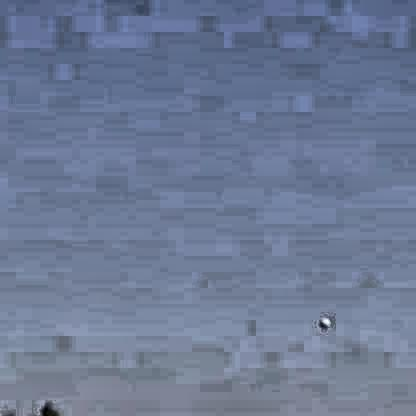golfball: (315, 315, 329, 327)
